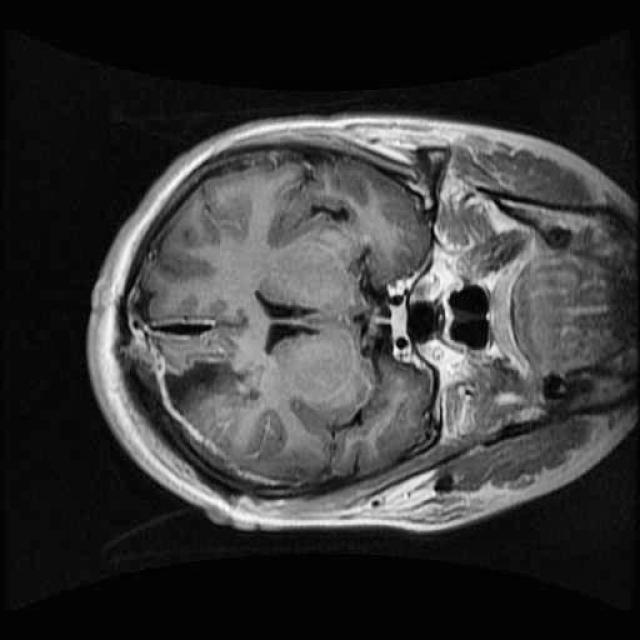Tumor: (134, 328, 274, 476)
